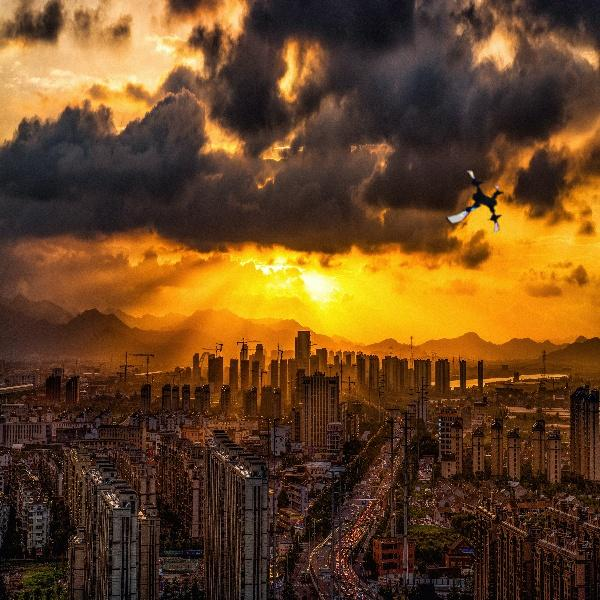drone: (437, 167, 510, 240)
